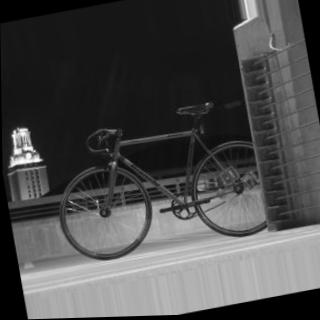Bike: (40, 93, 269, 274)
